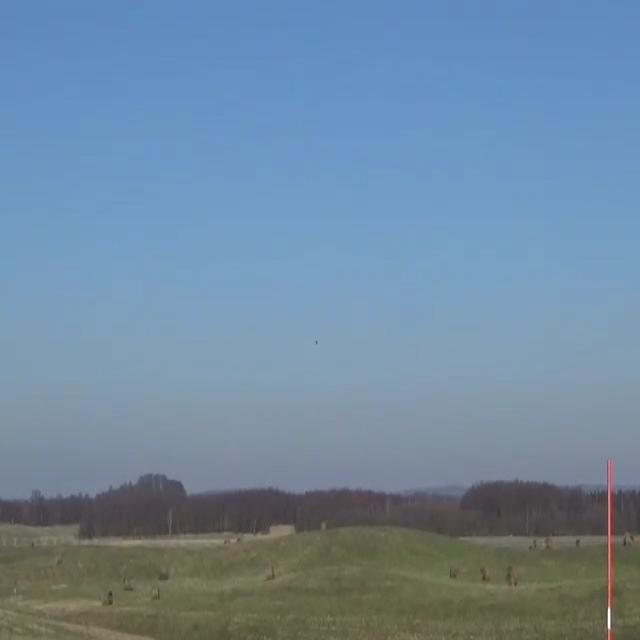bird: (314, 338, 319, 347)
